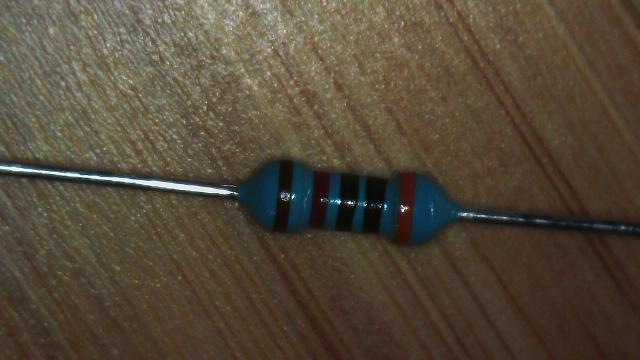black: (362, 177, 387, 233), (336, 174, 359, 230)
brown: (273, 160, 294, 231)
orange: (394, 174, 415, 244)
red: (310, 172, 329, 228)
resistor: (229, 136, 465, 263)
